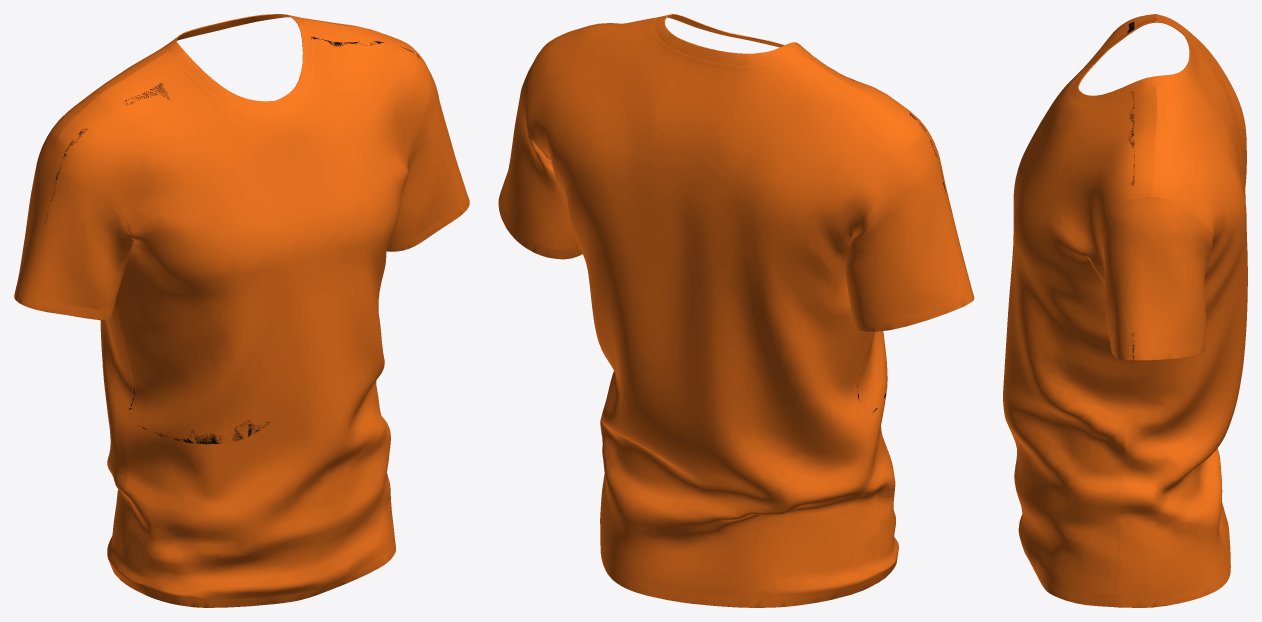
The model's file is design-1761552052487-800879672.glb.
3 views of the same model, side by side, from view 1: azimuth 30°, elevation 25°; view 2: azimuth 150°, elevation 25°; view 3: azimuth 270°, elevation 25° (orthographic). The views are drawn at different scales.
Bounding box in the file's own units: 1.1 × 1.23 × 0.5379.
2 materials, 1 textured.
